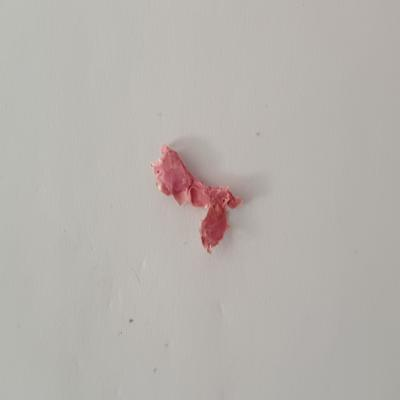plastic: (146, 141, 258, 257)
